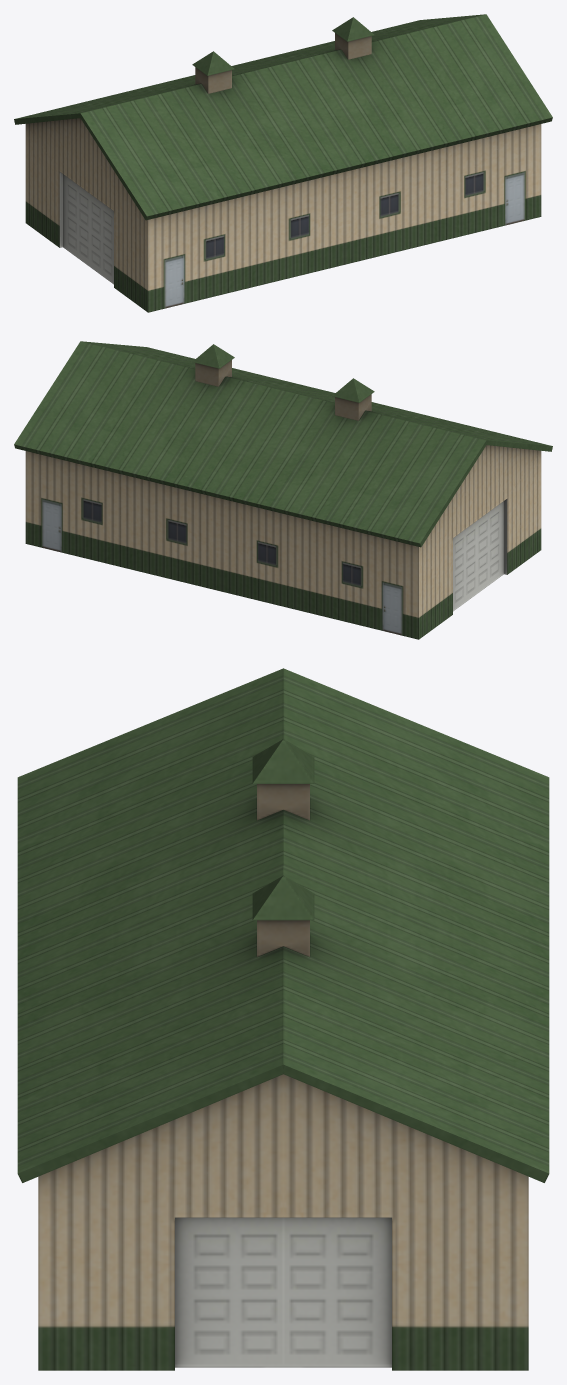
Rendered from farm_building.obj.
The picture shows the model from 3 angles, top to bottom: view 1: azimuth 30°, elevation 25°; view 2: azimuth 150°, elevation 25°; view 3: azimuth 270°, elevation 25°; orthographic projection. The views are drawn at different scales.
Parts seen in each view (by area): view 1: polySurface146; view 2: polySurface146; view 3: polySurface146.
Boxes of the visible parts, bbox=[...] form: polySurface146: bbox=[14, 14, 552, 312]; polySurface146: bbox=[14, 341, 552, 639]; polySurface146: bbox=[17, 668, 549, 1370].
Bounding box in the file's own units: 32.36 × 14.15 × 18.36.
1 material, 1 textured.
